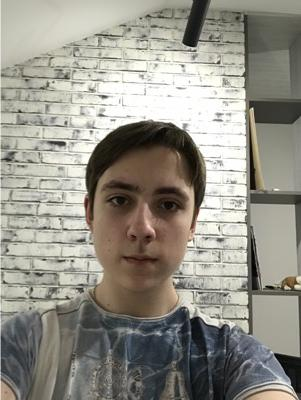without_mask: (92, 175, 194, 292)
